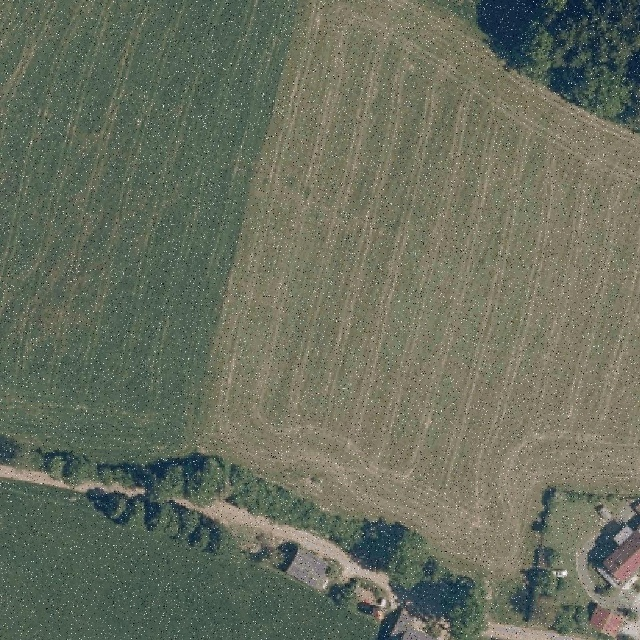vegetation: (0, 436, 487, 640), (485, 0, 640, 142), (92, 493, 235, 559)
